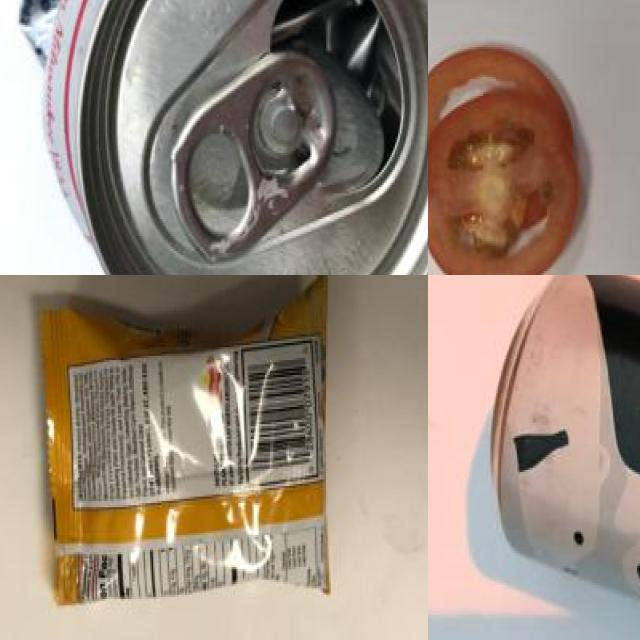compost: (428, 33, 604, 275)
plastic: (10, 0, 428, 275), (475, 275, 640, 640)
trash: (9, 275, 362, 616)
